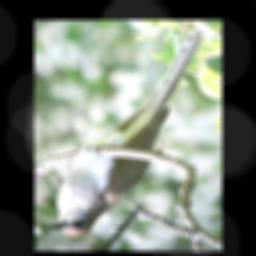Cuckoo: (49, 28, 206, 239)
